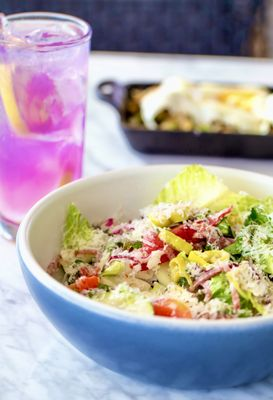curry: (61, 206, 108, 251)
pizza: (0, 11, 93, 230)
sushi: (16, 167, 273, 393), (90, 51, 273, 173)
